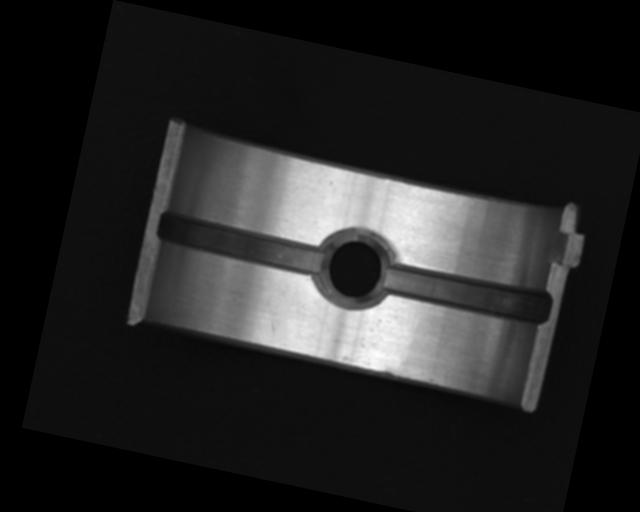gap: (152, 206, 332, 280), (380, 258, 554, 329)
hole: (309, 222, 398, 315)
